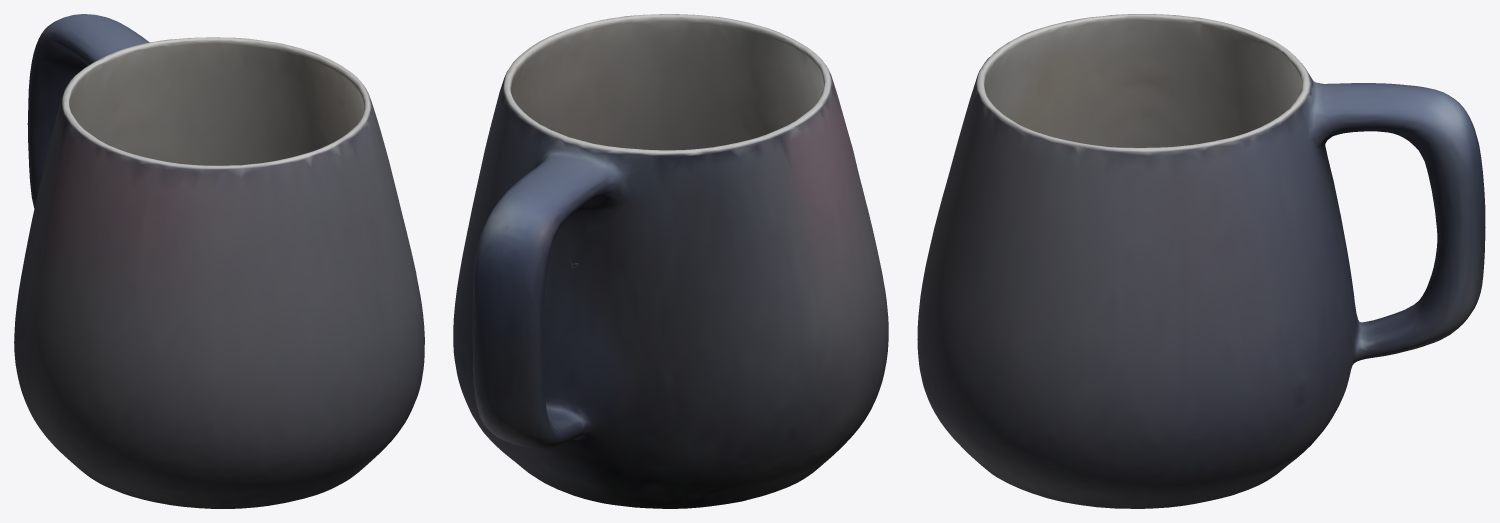
File: mug.glb
The picture shows the model from 3 angles, left to right: view 1: azimuth 30°, elevation 25°; view 2: azimuth 150°, elevation 25°; view 3: azimuth 270°, elevation 25°; orthographic projection. The views are drawn at different scales.
Visible parts, largest first — view 1: mug; view 2: mug; view 3: mug.
Part boxes in pixels (bbox=[...]): mug: bbox=[14, 14, 424, 508]; mug: bbox=[453, 14, 888, 508]; mug: bbox=[917, 14, 1485, 508].
Size of the model in its own units: 0.7595 by 0.7013 by 0.9994.
